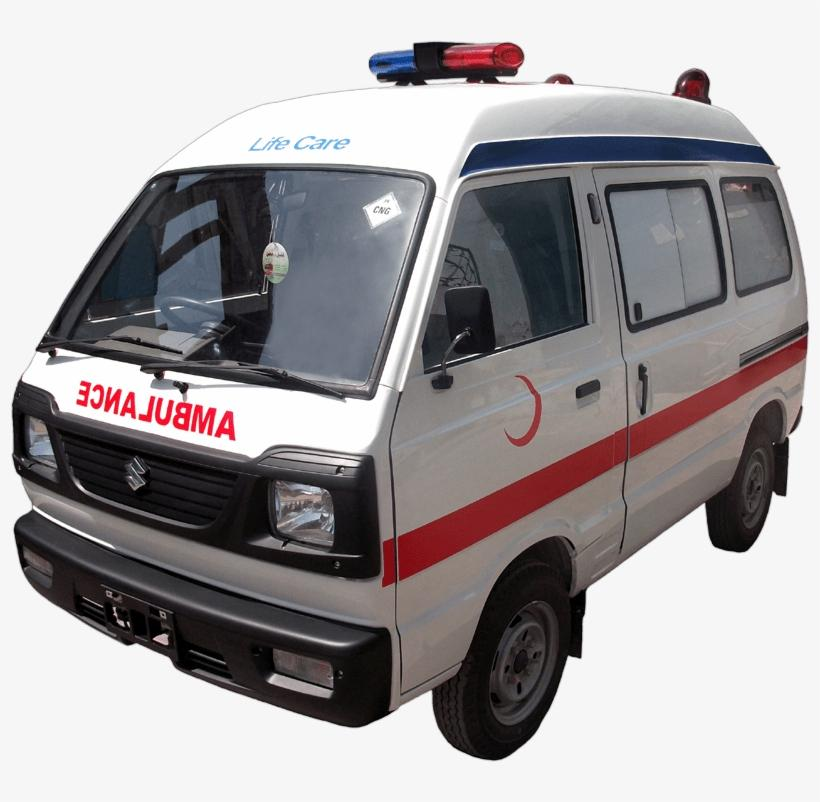van: (11, 83, 807, 761)
